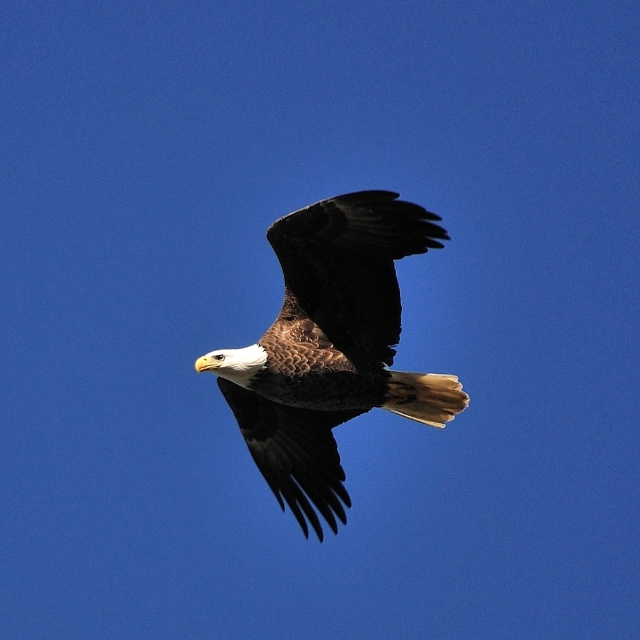Eagle: (193, 185, 469, 544)
